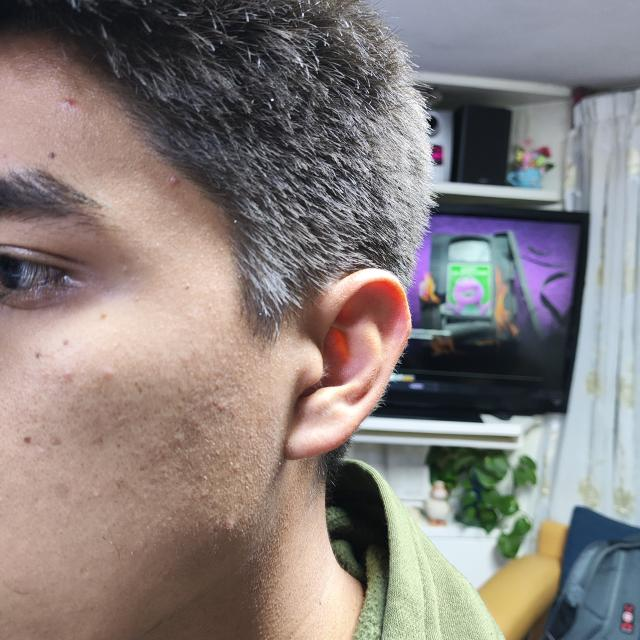ear: (279, 269, 410, 460)
